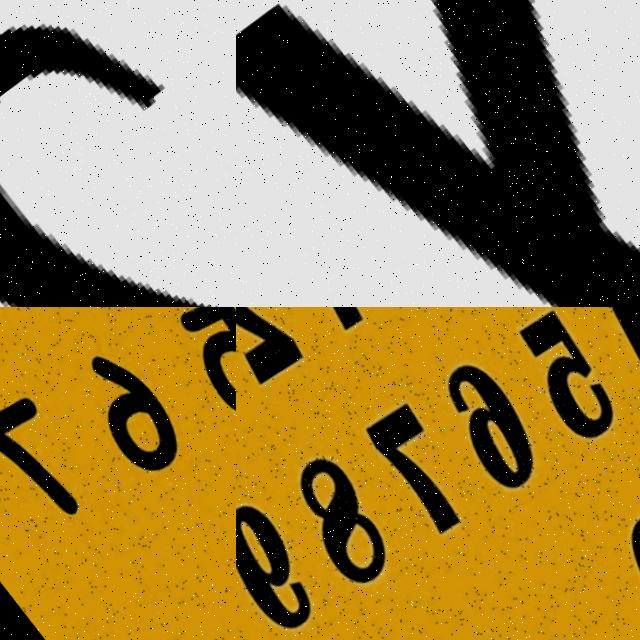0: (563, 476, 640, 640)
1: (236, 307, 414, 366)
2: (0, 0, 236, 307), (236, 307, 337, 407)
5: (466, 307, 640, 480), (118, 307, 236, 458)
6: (17, 307, 218, 509), (395, 331, 570, 516)
7: (316, 377, 502, 576), (0, 357, 109, 559)
8: (236, 414, 420, 613)
9: (236, 467, 350, 640)
Y: (236, 0, 640, 307)
